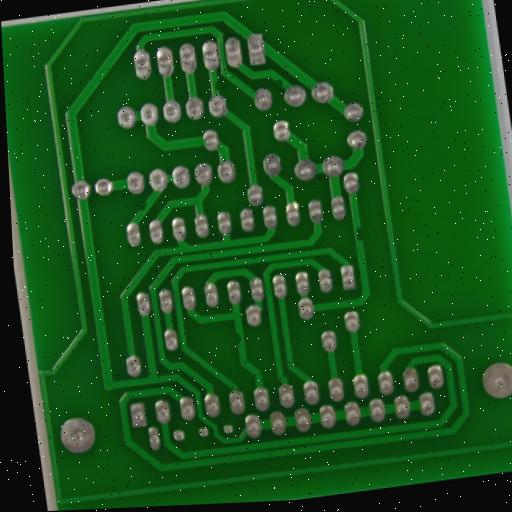mouse_bite: (350, 223, 367, 245), (231, 328, 248, 348), (135, 198, 152, 215), (271, 76, 288, 92), (208, 78, 223, 93)
